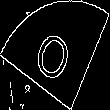O_SW: (31, 21, 79, 89)
